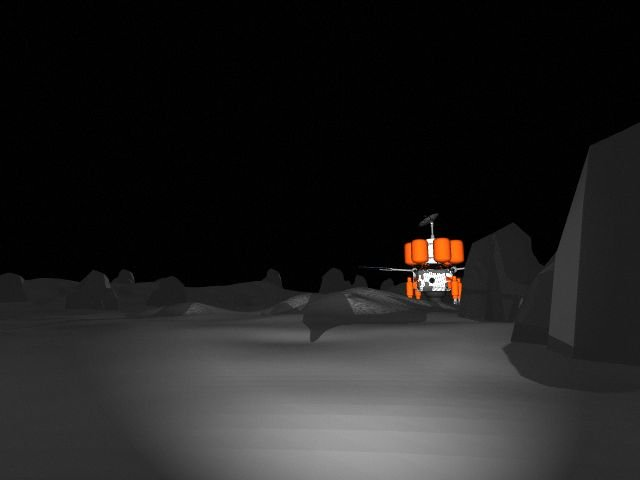homebase: (364, 210, 497, 308)
